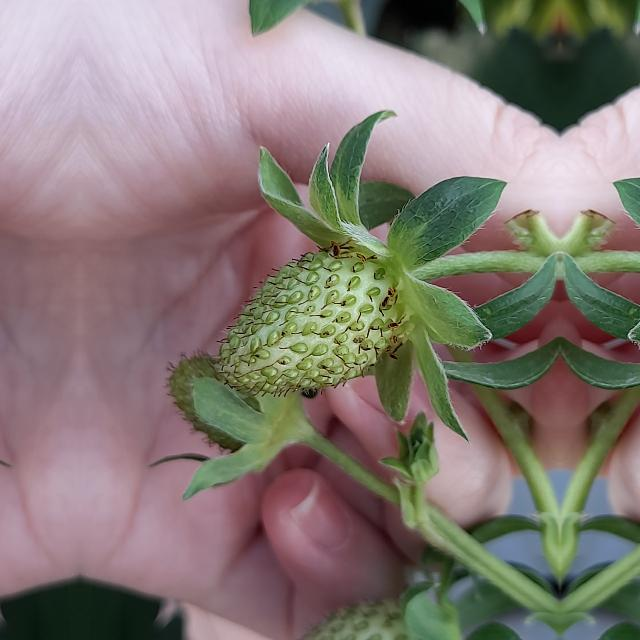Health_25: (212, 238, 402, 398)
